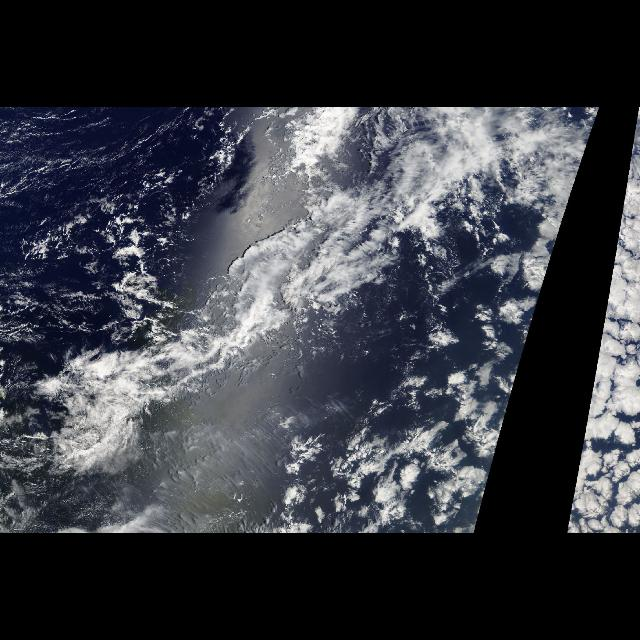Fish: (33, 112, 581, 476)
Flower: (274, 294, 544, 532)
Gravel: (16, 176, 198, 332)
